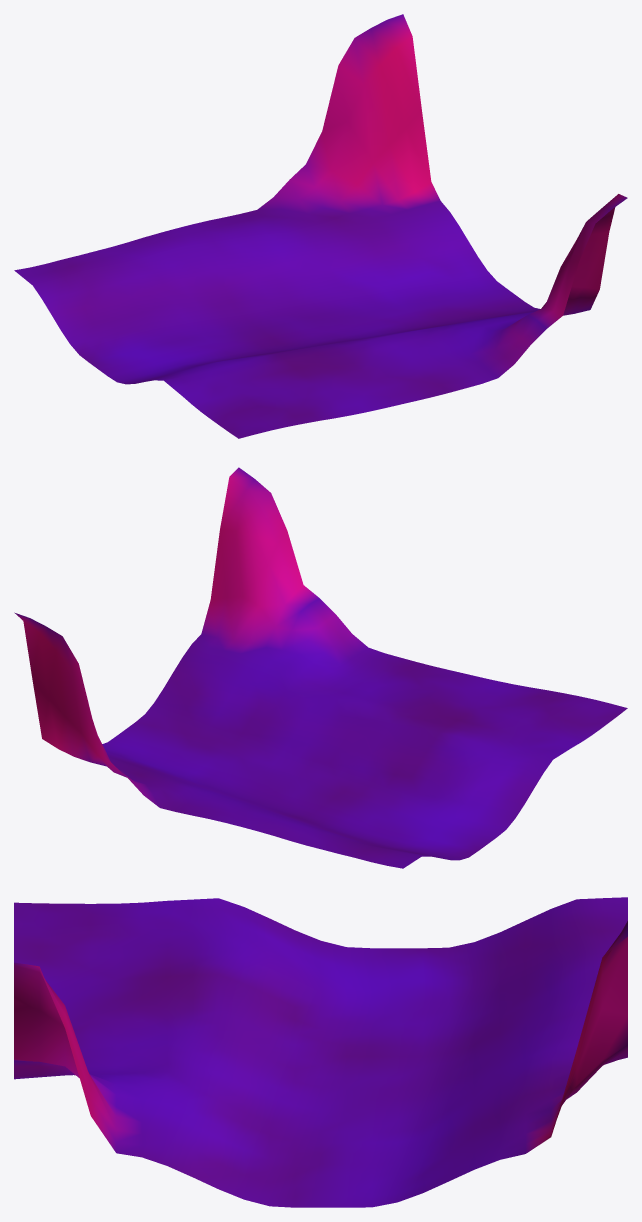
The model's file is ground_55.glb.
3 renders of one model, top to bottom at view 1: azimuth 30°, elevation 25°; view 2: azimuth 150°, elevation 25°; view 3: azimuth 270°, elevation 25°, orthographic. The views are drawn at different scales.
Parts seen in each view (by area): view 1: Ground_55; view 2: Ground_55; view 3: Ground_55.
Part boxes in pixels (box(x1,y1,x2,y2)): Ground_55: box(14, 14, 627, 438); Ground_55: box(14, 467, 627, 868); Ground_55: box(14, 897, 627, 1207).
Size of what is drawn, in the model's own units: 24 by 11.7 by 24.
